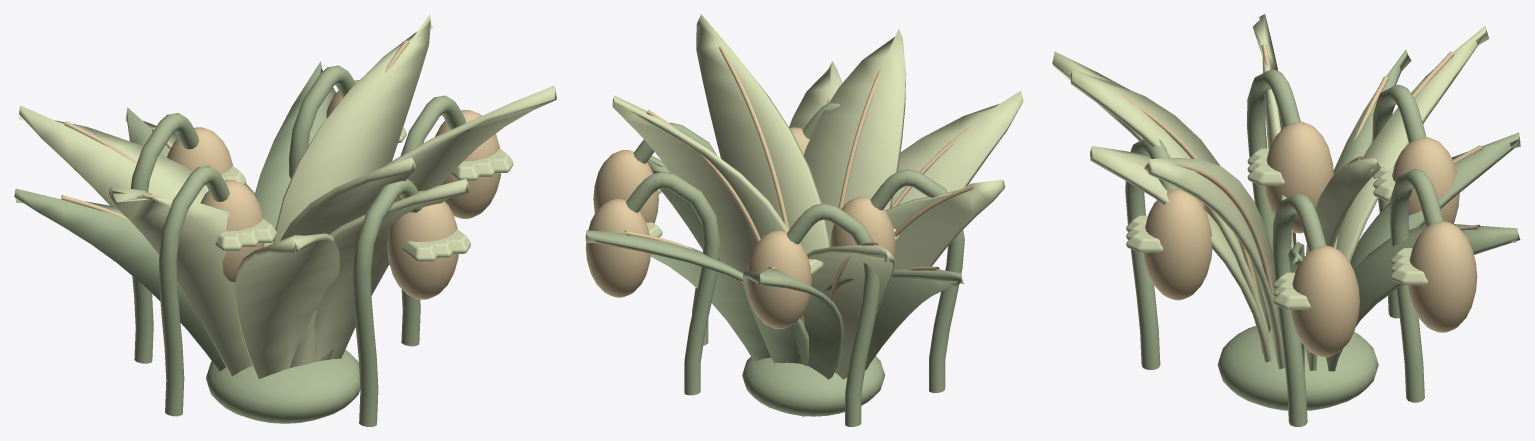
The model's file is bio_mist_leaf_18_near.glb.
The picture shows the model from 3 angles, left to right: view 1: azimuth 30°, elevation 25°; view 2: azimuth 150°, elevation 25°; view 3: azimuth 270°, elevation 25°; orthographic projection. The views are drawn at different scales.
Parts seen in each view (by area): view 1: Cupped condensate leaf.008, Cupped condensate leaf.007, Cupped condensate leaf.004, Root rosette, Cupped condensate leaf.009, Cupped condensate leaf.001, Cupped condensate leaf.010, Arched fruit stem.004, Arched fruit stem.002, Cupped condensate leaf.002, Cupped condensate leaf.005, Pendant spore capsule.002 (+11 smaller); view 2: Cupped condensate leaf.005, Cupped condensate leaf.002, Cupped condensate leaf.008, Cupped condensate leaf.007, Cupped condensate leaf.003, Root rosette, Cupped condensate leaf.004, Cupped condensate leaf.006, Arched fruit stem.003, Cupped condensate leaf.001, Arched fruit stem.001, Pendant spore capsule.001 (+13 smaller); view 3: Root rosette, Pendant spore capsule.003, Pendant spore capsule, Cupped condensate leaf.005, Pendant spore capsule.002, Cupped condensate leaf.002, Cupped condensate leaf.001, Arched fruit stem, Arched fruit stem.003, Pendant spore capsule.004, Cupped condensate leaf.010, Cupped condensate leaf.003 (+16 smaller).
Part boxes in pixels (bbox=[...]): Cupped condensate leaf.008: bbox=[273, 14, 432, 243]; Cupped condensate leaf.007: bbox=[234, 233, 339, 379]; Cupped condensate leaf.004: bbox=[108, 186, 271, 376]; Root rosette: bbox=[206, 349, 360, 423]; Cupped condensate leaf.009: bbox=[14, 188, 225, 371]; Cupped condensate leaf.001: bbox=[19, 105, 205, 206]; Cupped condensate leaf.010: bbox=[314, 179, 469, 361]; Arched fruit stem.004: bbox=[159, 165, 229, 416]; Arched fruit stem.002: bbox=[353, 179, 421, 426]; Cupped condensate leaf.002: bbox=[280, 157, 415, 367]; Cupped condensate leaf.005: bbox=[383, 85, 556, 202]; Pendant spore capsule.002: bbox=[387, 190, 458, 299]; Cupped condensate leaf.005: bbox=[696, 14, 829, 253]; Cupped condensate leaf.002: bbox=[803, 29, 906, 246]; Cupped condensate leaf.008: bbox=[612, 95, 788, 273]; Cupped condensate leaf.007: bbox=[891, 91, 1023, 206]; Cupped condensate leaf.003: bbox=[585, 230, 808, 365]; Root rosette: bbox=[742, 356, 885, 416]; Cupped condensate leaf.004: bbox=[866, 179, 1005, 369]; Cupped condensate leaf.006: bbox=[743, 269, 843, 416]; Arched fruit stem.003: bbox=[626, 171, 720, 395]; Cupped condensate leaf.001: bbox=[807, 245, 895, 416]; Arched fruit stem.001: bbox=[786, 203, 880, 426]; Pendant spore capsule.001: bbox=[746, 230, 811, 329]; Root rosette: bbox=[1217, 326, 1378, 410]; Pendant spore capsule.003: bbox=[1408, 221, 1477, 332]; Pendant spore capsule: bbox=[1291, 245, 1359, 357]; Cupped condensate leaf.005: bbox=[1144, 158, 1285, 369]; Pendant spore capsule.002: bbox=[1143, 188, 1212, 300]; Cupped condensate leaf.002: bbox=[1070, 69, 1266, 353]; Cupped condensate leaf.001: bbox=[1336, 26, 1489, 262]; Arched fruit stem: bbox=[1272, 193, 1326, 426]; Arched fruit stem.003: bbox=[1390, 168, 1443, 402]; Pendant spore capsule.004: bbox=[1265, 121, 1333, 233]; Cupped condensate leaf.010: bbox=[1090, 146, 1271, 362]; Cupped condensate leaf.003: bbox=[1326, 224, 1520, 371].
Size of the model in its own units: 1.94 by 1.38 by 1.74.
